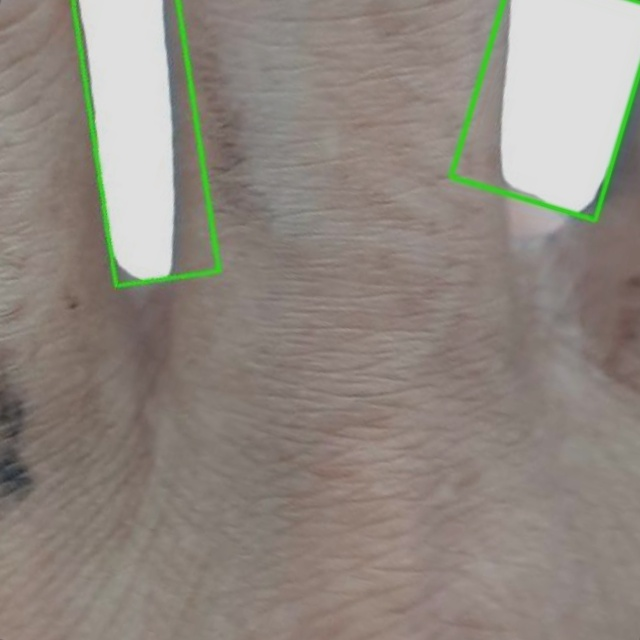Scabies: (72, 0, 218, 286), (451, 0, 639, 219)
